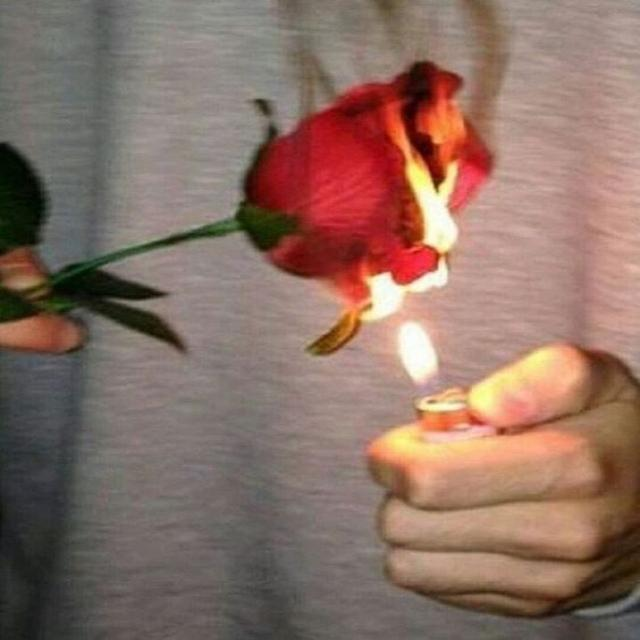fire: (355, 253, 447, 325), (405, 152, 458, 252), (395, 320, 440, 387)
